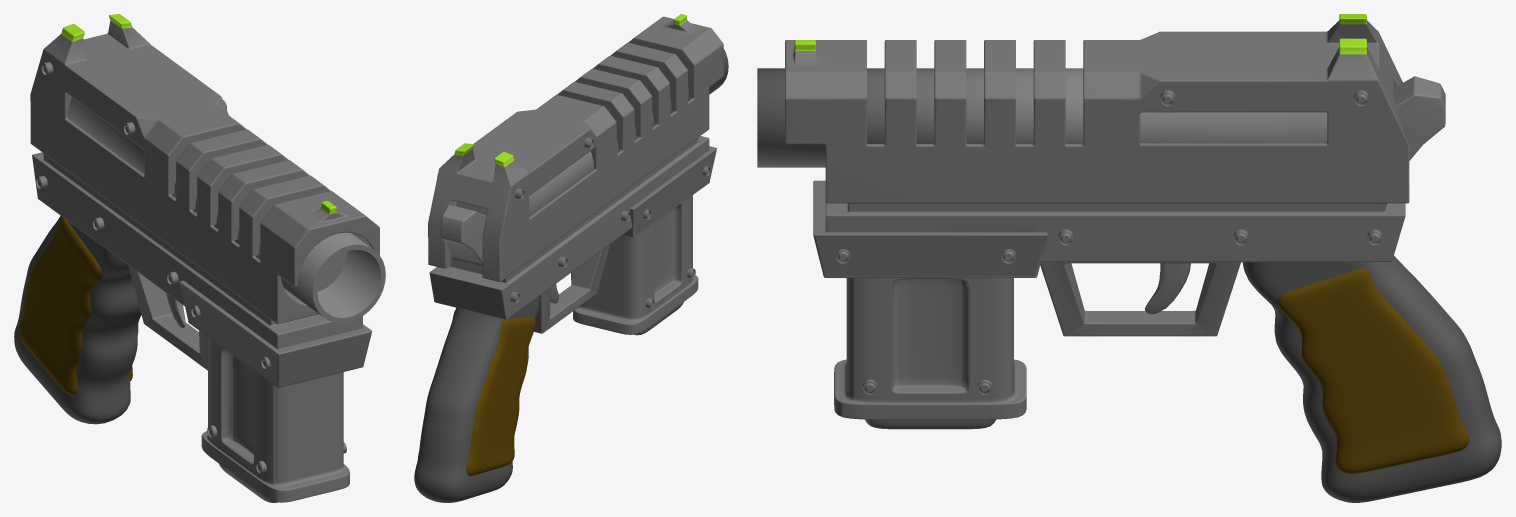
File: ScifIGunNewHandle.gltf
3 renders of one model, left to right at view 1: azimuth 30°, elevation 25°; view 2: azimuth 150°, elevation 25°; view 3: azimuth 270°, elevation 25°, orthographic. The views are drawn at different scales.
Visible parts, largest first — view 1: Cube, Cube.001, Cube.003, Cylinder.001, Cube.005; view 2: Cube, Cube.001, Cube.003, Cylinder.001, Cube.005; view 3: Cube, Cube.001, Cube.003, Cylinder.001, Cube.005, Cube.004.
Part boxes in pixels (x1=…): Cube: x1=30, y1=14, x2=379, y2=387; Cube.001: x1=14, y1=215, x2=141, y2=424; Cube.003: x1=201, y1=337, x2=349, y2=502; Cylinder.001: x1=68, y1=97, x2=385, y2=322; Cube.005: x1=35, y1=62, x2=346, y2=473; Cube: x1=428, y1=14, x2=723, y2=333; Cube.001: x1=414, y1=295, x2=540, y2=502; Cube.003: x1=573, y1=195, x2=698, y2=335; Cylinder.001: x1=529, y1=48, x2=728, y2=216; Cube.005: x1=437, y1=137, x2=710, y2=308; Cube: x1=785, y1=14, x2=1445, y2=336; Cube.001: x1=1242, y1=256, x2=1501, y2=502; Cube.003: x1=834, y1=278, x2=1026, y2=429; Cylinder.001: x1=757, y1=68, x2=1327, y2=167; Cube.005: x1=835, y1=90, x2=1382, y2=395; Cube.004: x1=1144, y1=263, x2=1190, y2=314.
Bounding box in the file's own units: 0.0884 × 0.3427 × 0.493.
